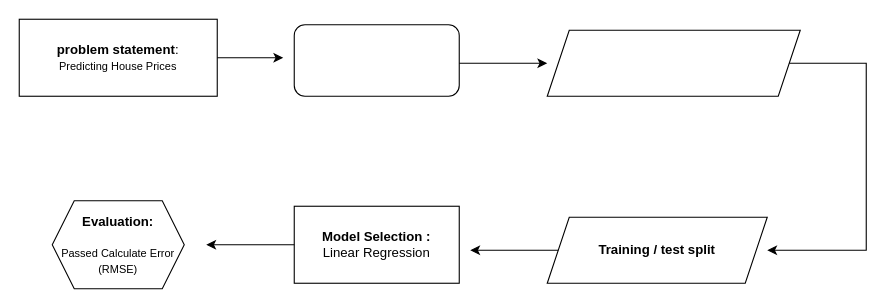
The diagram is 894 pixels wide and 308 high, and some of its shapes have lost their labels. The box of each missing label's shape, as (x1, y1, x2, y2) in pixels:
Data Collection: Load house_prices.csv: (293, 24, 459, 96)
Data Preprocessing cleaning the data + checking its info: (546, 29, 800, 96)
